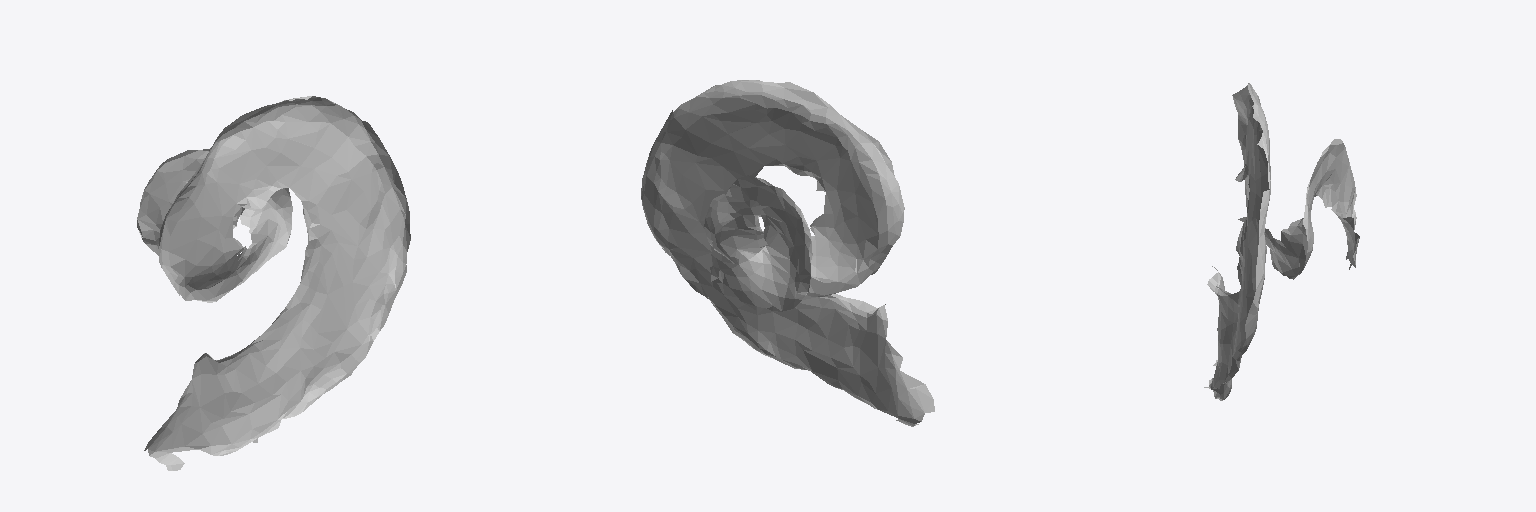
File: membraneBasilaireBetterFitTransformed.obj
3 renders of one model, left to right at view 1: azimuth 30°, elevation 25°; view 2: azimuth 150°, elevation 25°; view 3: azimuth 270°, elevation 25°, orthographic.
Visible parts, largest first — view 1: 1_Visual; view 2: 1_Visual; view 3: 1_Visual.
Part boxes in pixels (bbox=[...]): 1_Visual: bbox=[137, 96, 410, 470]; 1_Visual: bbox=[641, 80, 934, 426]; 1_Visual: bbox=[1204, 83, 1359, 400].
Size of the model in its own units: 75.72 by 84.55 by 37.54.